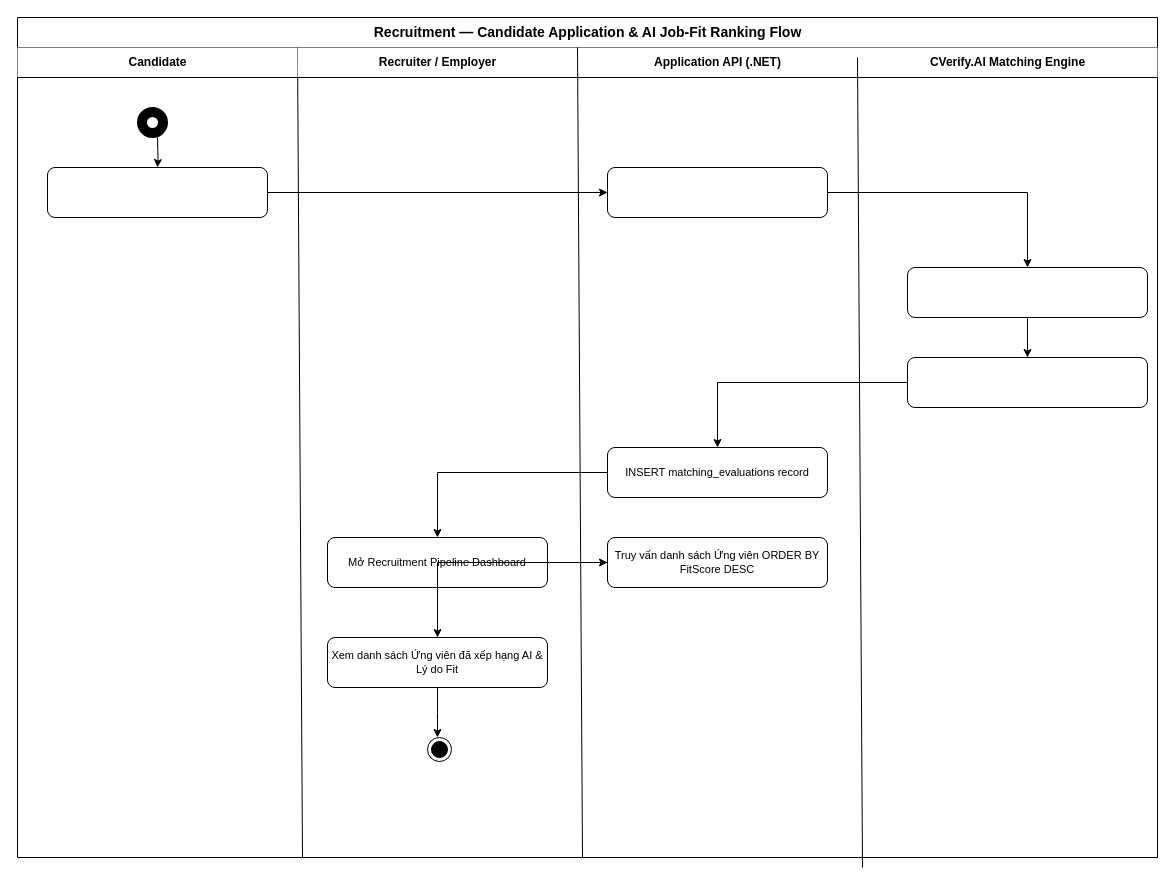
This 1175x886 diagram has some shape labels left out. Here are the shapes that lost their labels. From the top down, the centre of each, then its label:
At [157,192]: "Nhấn Apply & Nộp Hồ sơ CV ứng tuyển Job".
At [717,192]: "INSERT job_applications (Status = Submitted)".
At [1027,292]: "Tính toán Vector Cosine Similarity & Domain Weight".
At [1027,382]: "Sinh FitScore (%) & Giải thích Match Explanation JSON".
